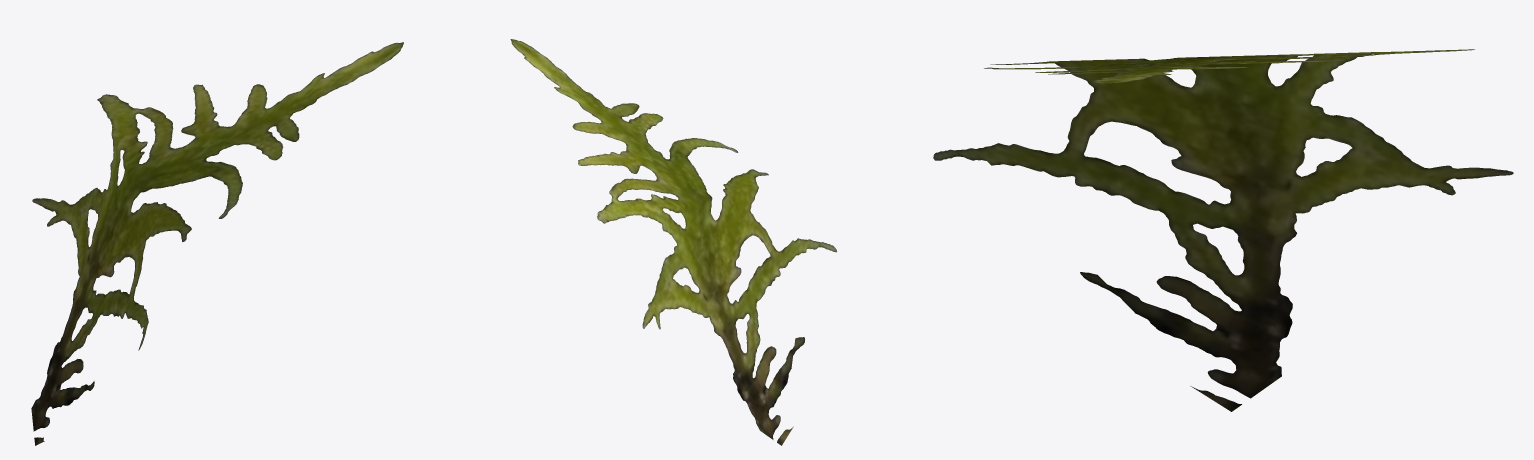
File: moss_01_i_LOD1.glb
3 views of the same model, side by side, from view 1: azimuth 30°, elevation 25°; view 2: azimuth 150°, elevation 25°; view 3: azimuth 270°, elevation 25° (orthographic). The views are drawn at different scales.
Parts seen in each view (by area): view 1: moss_01_i_LOD1__lod0; view 2: moss_01_i_LOD1__lod0; view 3: moss_01_i_LOD1__lod0.
Part boxes in pixels (x1,y1,x2,y2): moss_01_i_LOD1__lod0: (31, 42, 403, 445); moss_01_i_LOD1__lod0: (510, 39, 836, 445); moss_01_i_LOD1__lod0: (933, 49, 1513, 411).
Size of the model in its own units: 0.0165 by 0.0147 by 0.0127.
1 material, 1 textured.
